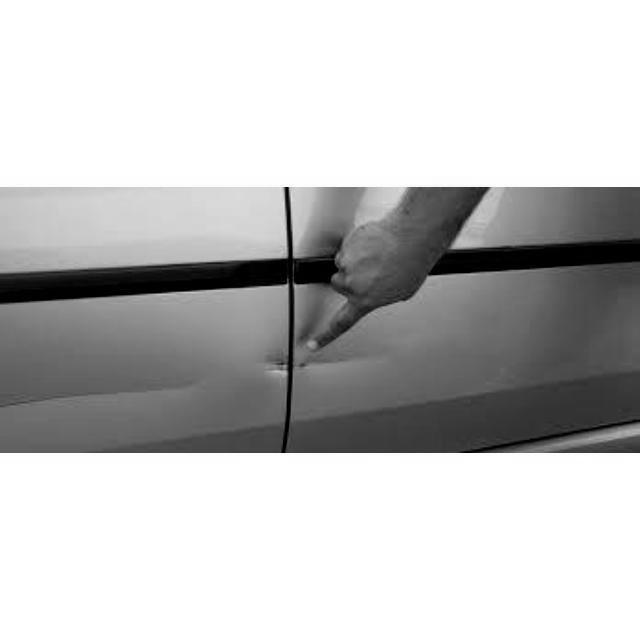doorouter-dent: (1, 189, 302, 451)
